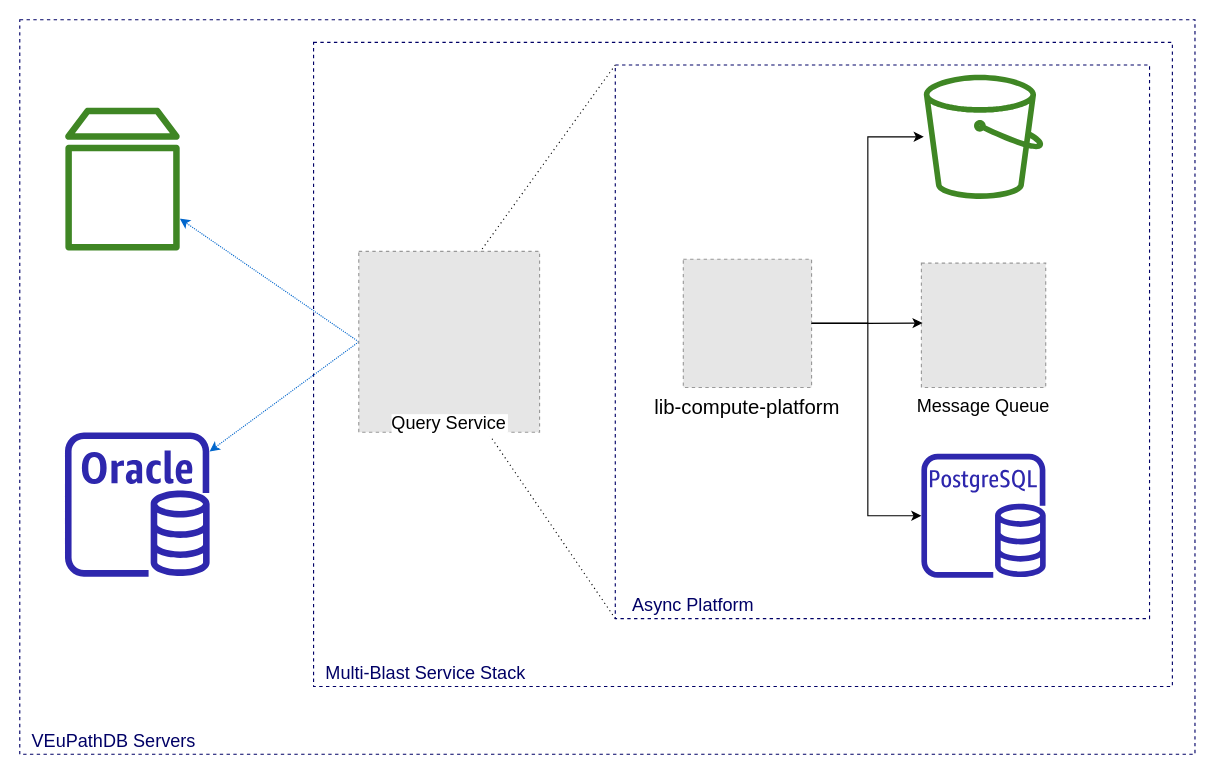
The diagram is 1215 pixels wide and 774 high, and some of its shapes have lost their labels. Grey dashed boxes stand in for pictures. Each missing label, with the box of its shape:
BLAST+ Databases: (64, 106, 179, 251)
Queue Database: (921, 453, 1045, 577)
S3: (923, 74, 1043, 198)
